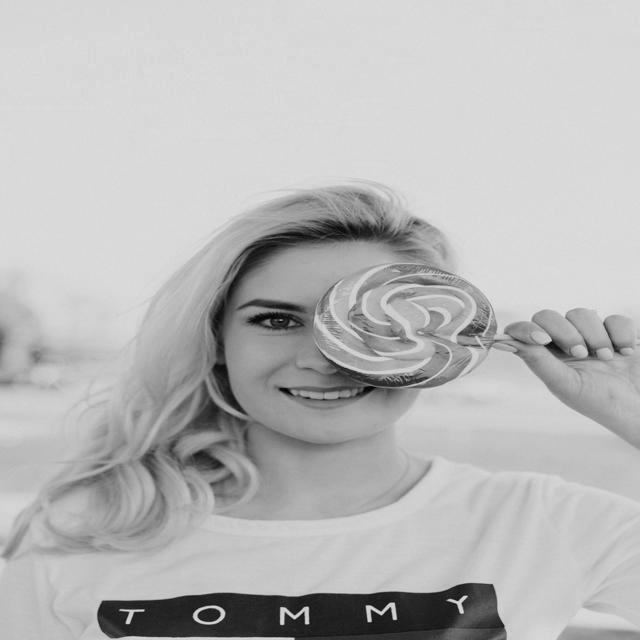Happiness: (217, 232, 430, 450)
